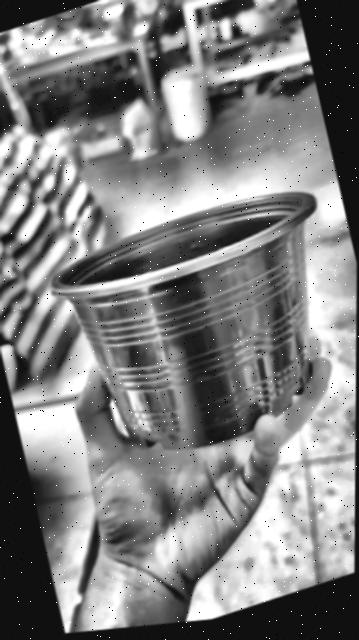pot: (50, 192, 315, 449)
